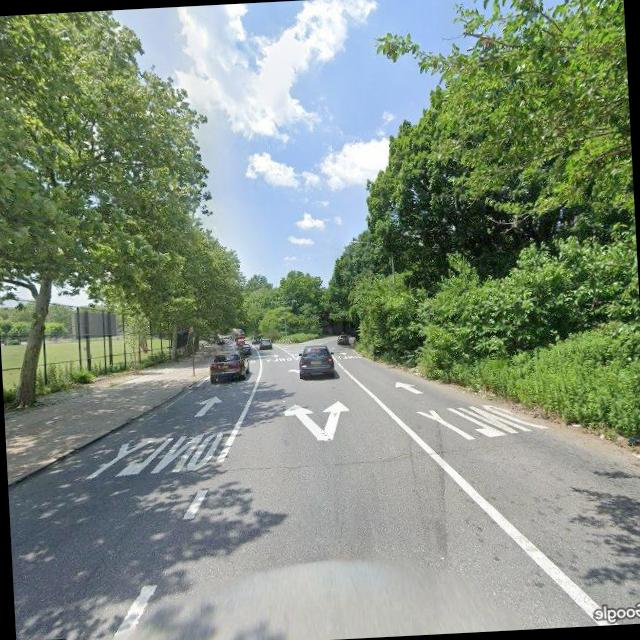crack: (110, 423, 552, 486), (62, 492, 169, 616)
